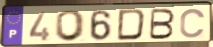4: (27, 11, 52, 42)
6: (89, 8, 114, 42)
B: (148, 8, 177, 40)
C: (179, 8, 207, 40)
D: (116, 8, 148, 42)
O: (54, 9, 87, 43)
